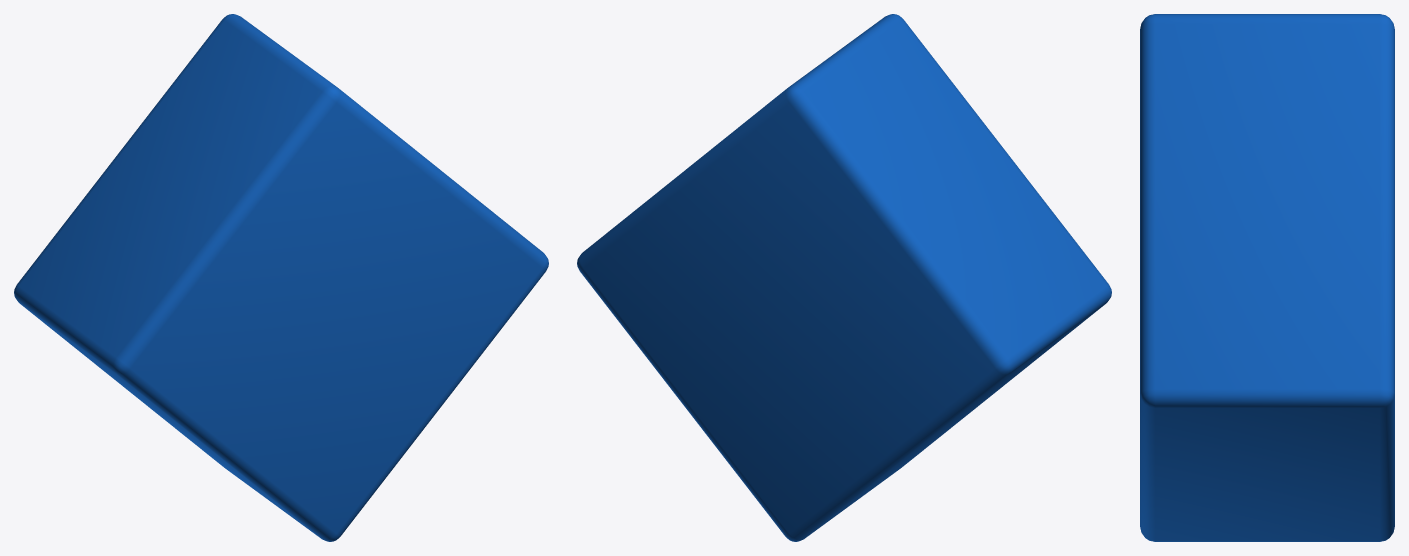
File: small_blue_diamond.glb
The picture shows the model from 3 angles, left to right: view 1: azimuth 30°, elevation 25°; view 2: azimuth 150°, elevation 25°; view 3: azimuth 270°, elevation 25°; orthographic projection. The views are drawn at different scales.
Parts seen in each view (by area): view 1: large_blue_diamond.001; view 2: large_blue_diamond.001; view 3: large_blue_diamond.001.
Boxes of the visible parts, box(x1,y1,x2,y2) form: large_blue_diamond.001: box(14, 14, 548, 541); large_blue_diamond.001: box(577, 14, 1111, 541); large_blue_diamond.001: box(1140, 14, 1394, 541).
Bounding box in the file's own units: 1.7 × 1.7 × 0.7456.
1 material, 1 textured.
